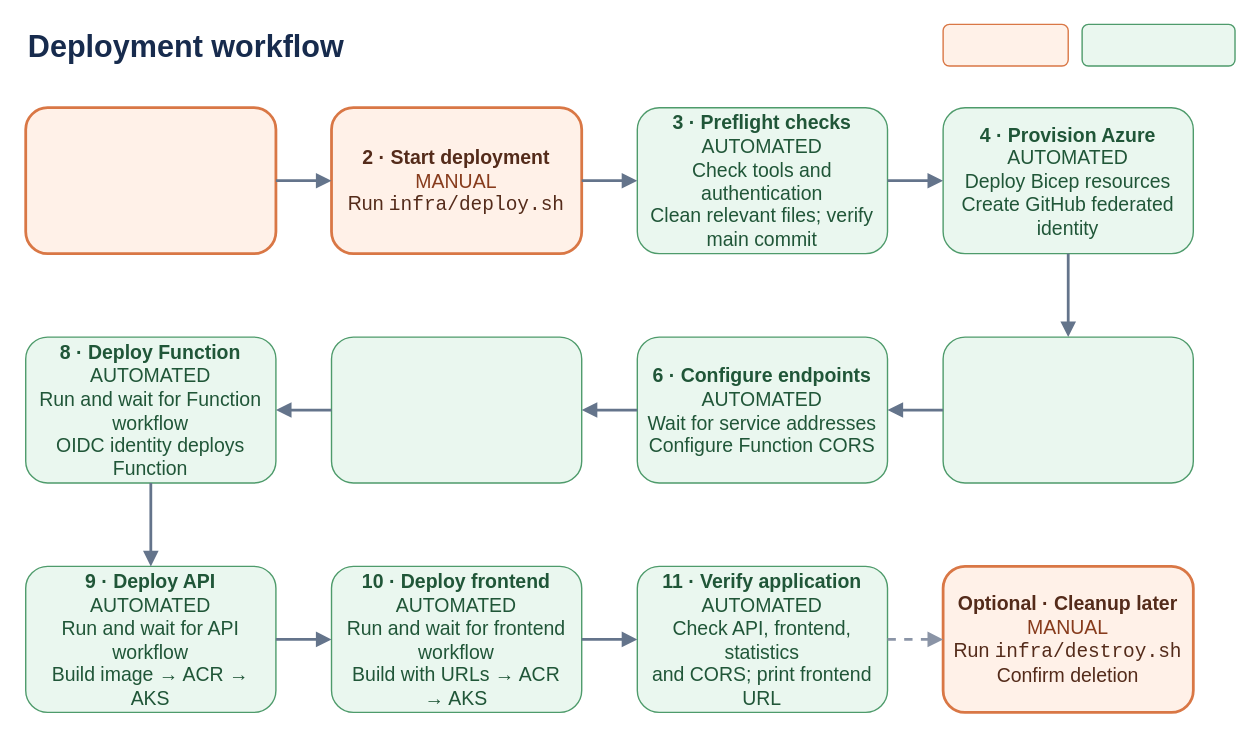
Image size: 1259x738. Some labels were removed from this diagram. The shapes that lost their labels are listed below. From the top down, each one's centre as x and y in pixels, then its label:
At pixel 1005 44: "MANUAL".
At pixel 1158 44: "AUTOMATED".
At pixel 150 180: "1 · Prepare MANUAL Commit and push to main Sign in to Azure and GitHub".
At pixel 456 409: "7 · Configure GitHub AUTOMATED Set Actions secrets and variables".
At pixel 1067 409: "5 · Configure AKS AUTOMATED Set database secret Apply deployments and services".
